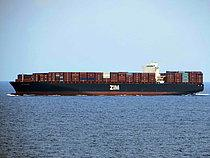Ship: (8, 63, 207, 98)
